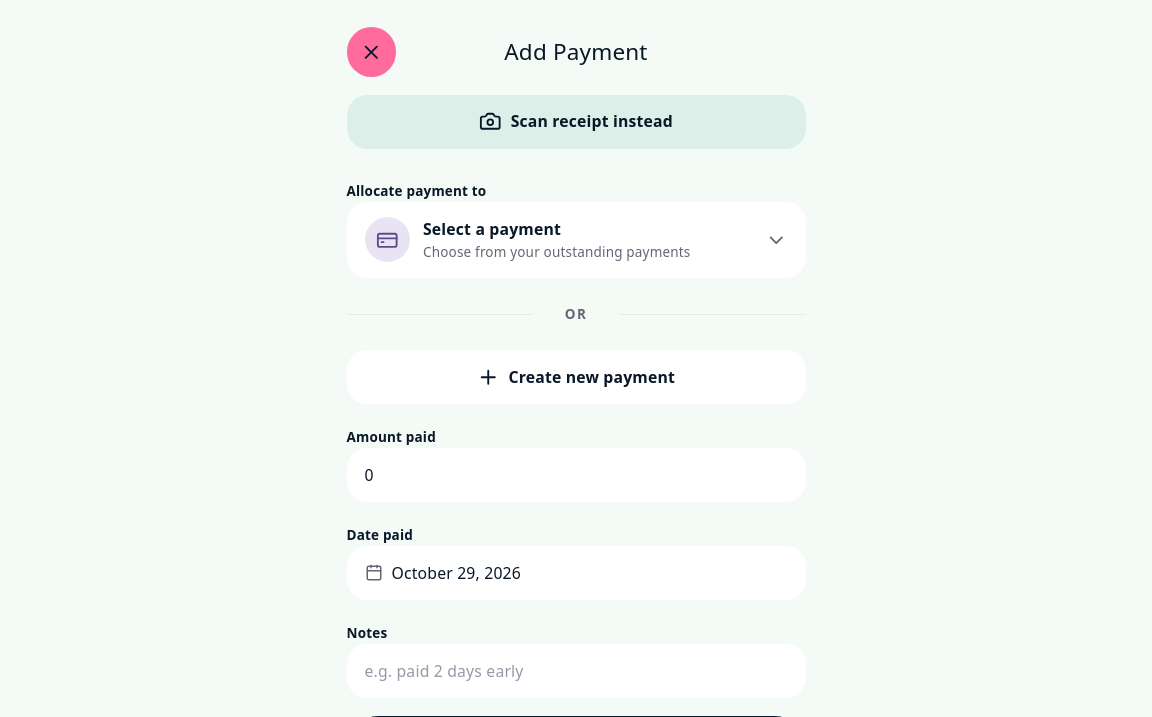
Test: PaymentForm (ObligationForm) Component › shows replay confirmation without claiming a second payment
Step 1. Click the button with aria-label "Allocate payment to" → x=387, y=240, box [346,202,806,278]
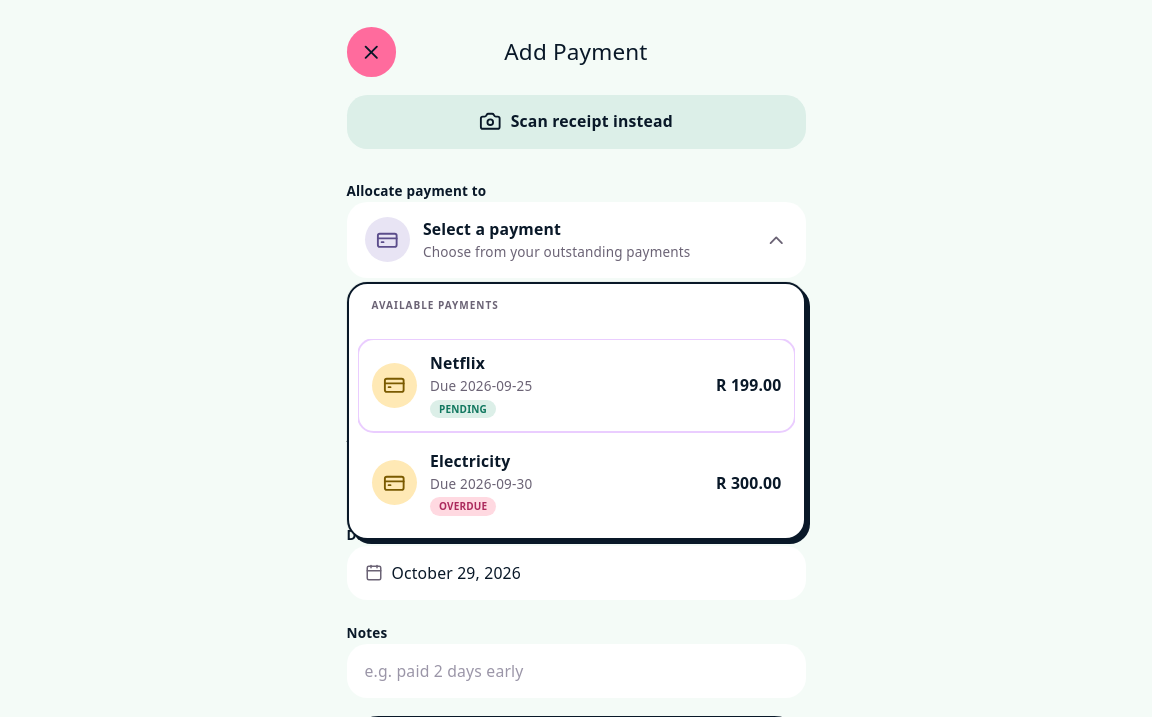
Step 2. Click the button "Netflix Due 2026-09-25 PENDING R 199.00" → x=394, y=385, box [358,339,795,432]
(page scrolled)
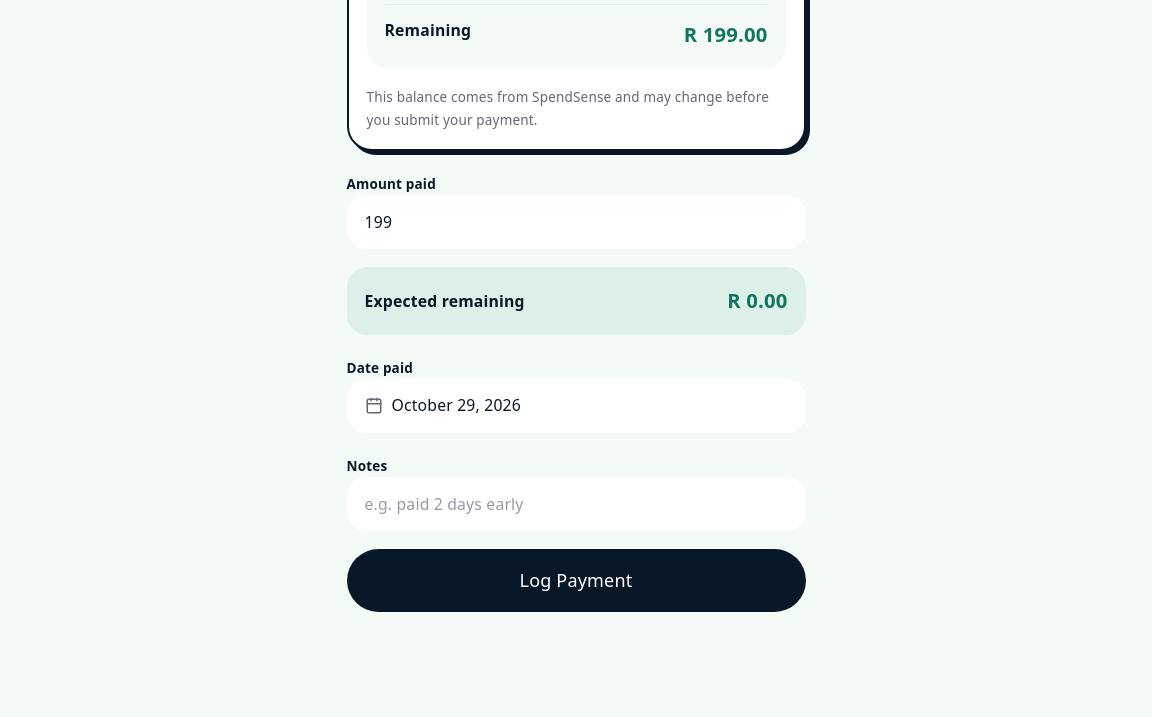
Step 3. Click the button "Log Payment" → x=576, y=580, box [346,549,806,612]
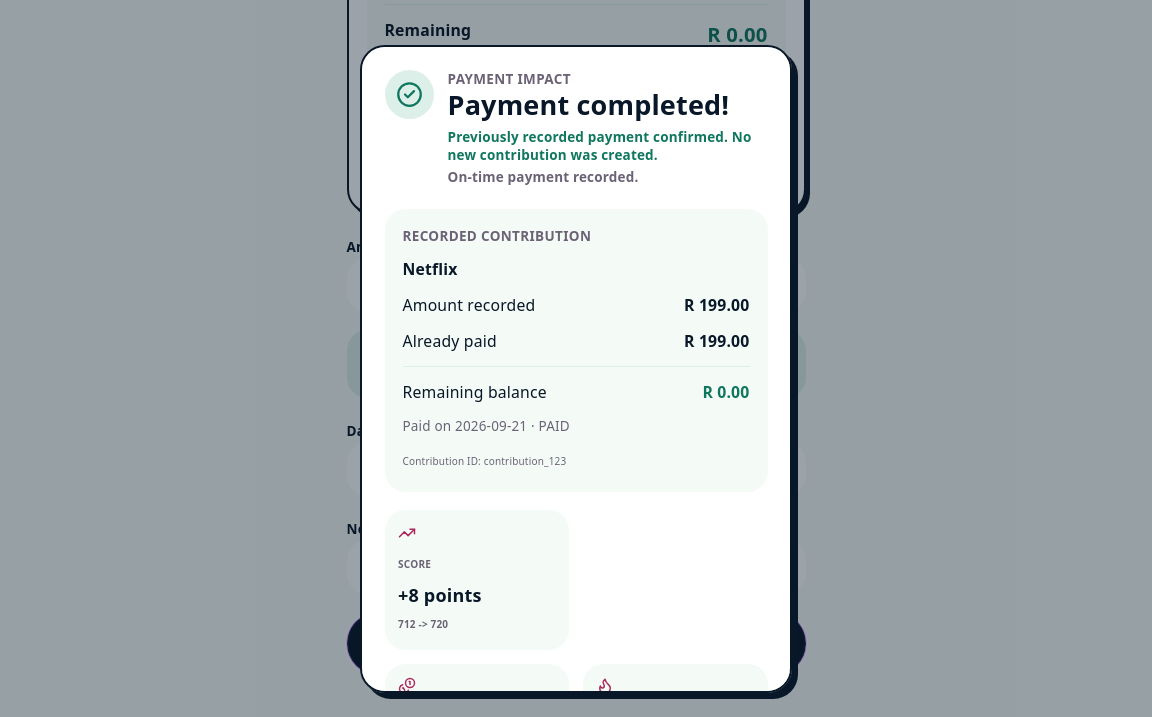
Now the text "Previously recorded payment confirmed. No new contribution was created." is shown, box [448,128,768,164]
Now the text "Contribution ID: contribution_123" is shown, box [402,454,566,468]
